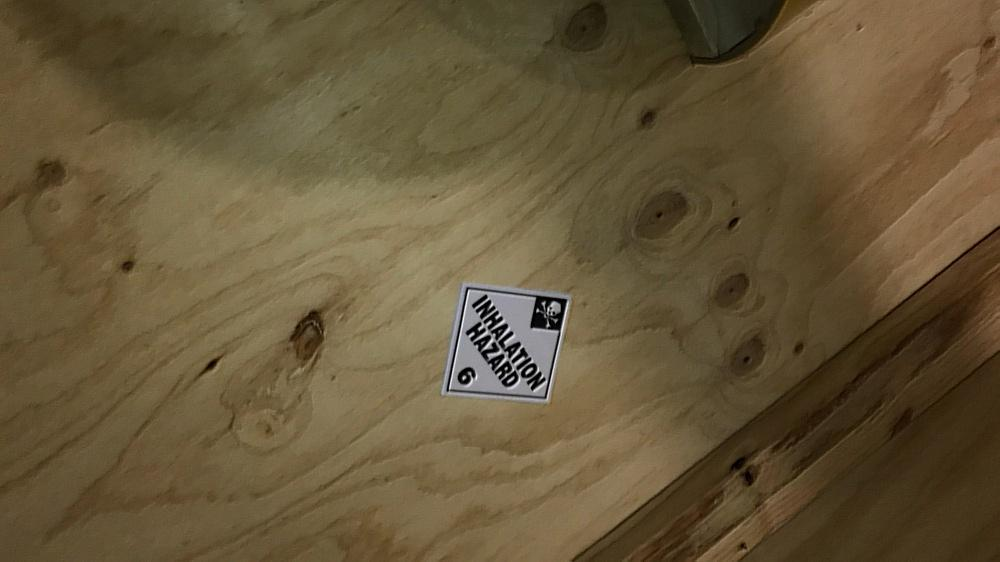poison: (444, 281, 576, 405)
